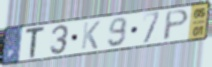3: (47, 24, 69, 56)
7: (141, 10, 161, 46)
9: (106, 16, 129, 48)
K: (80, 20, 102, 51)
P: (161, 8, 191, 43)
T: (24, 25, 47, 61)
